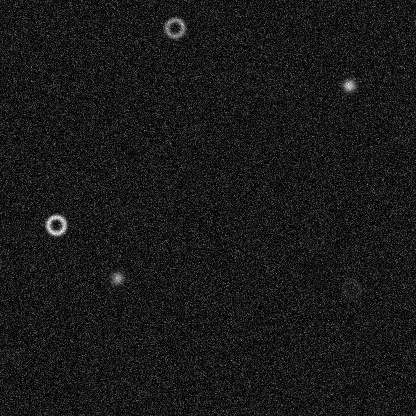Ring: (43, 212, 67, 236), (162, 15, 186, 39), (339, 277, 363, 301)
Spot: (340, 77, 356, 93), (109, 270, 125, 286)
